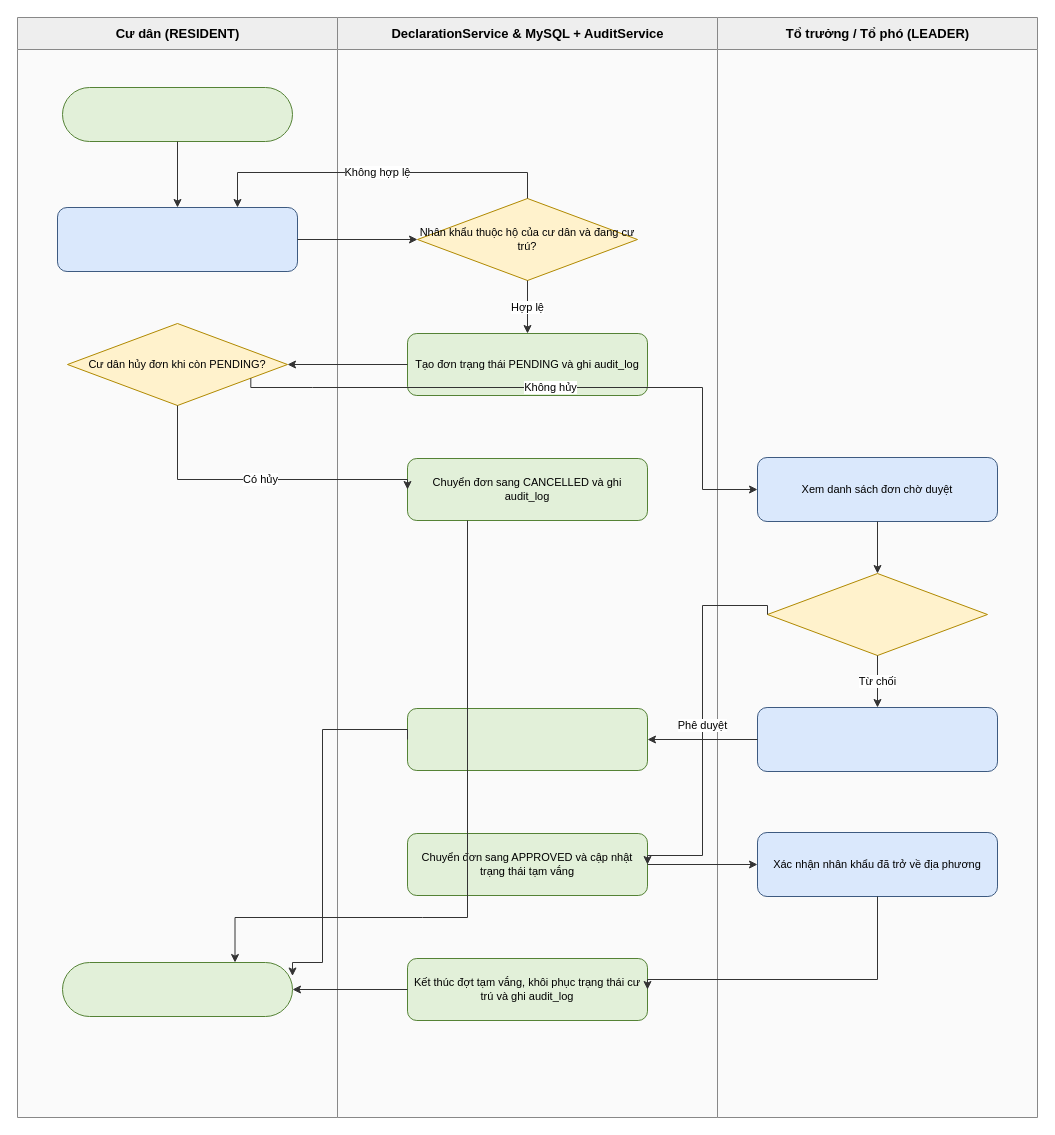
This 1055x1135 diagram has some shape labels left out. Here are the shapes that lost their labels. From the top down, the centre of each, then its label:
At point 177,114: "Bắt đầu khai báo tạm vắng".
At point 177,239: "Gửi đơn khai báo gồm thời gian và lý do".
At point 877,614: "Quyết định duyệt đơn?".
At point 527,739: "Chuyển đơn sang REJECTED kèm lý do và ghi audit_log".
At point 877,739: "Nhập lý do từ chối".
At point 177,989: "Kết thúc luồng khai báo".
